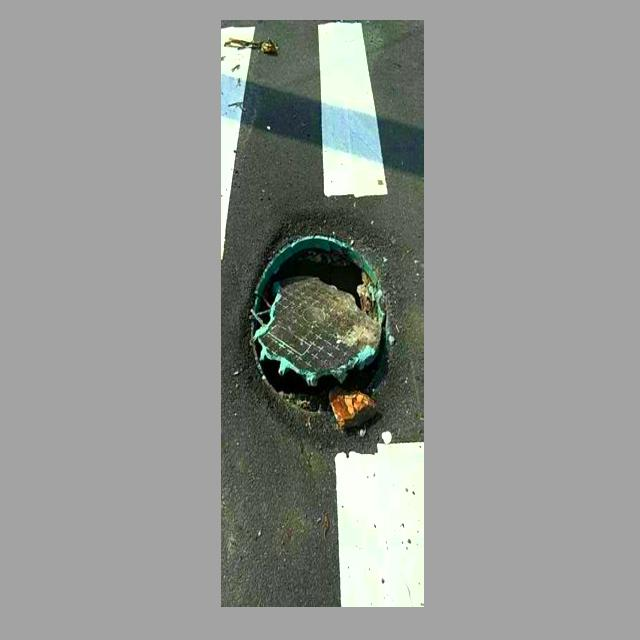broke: (228, 205, 417, 445)
